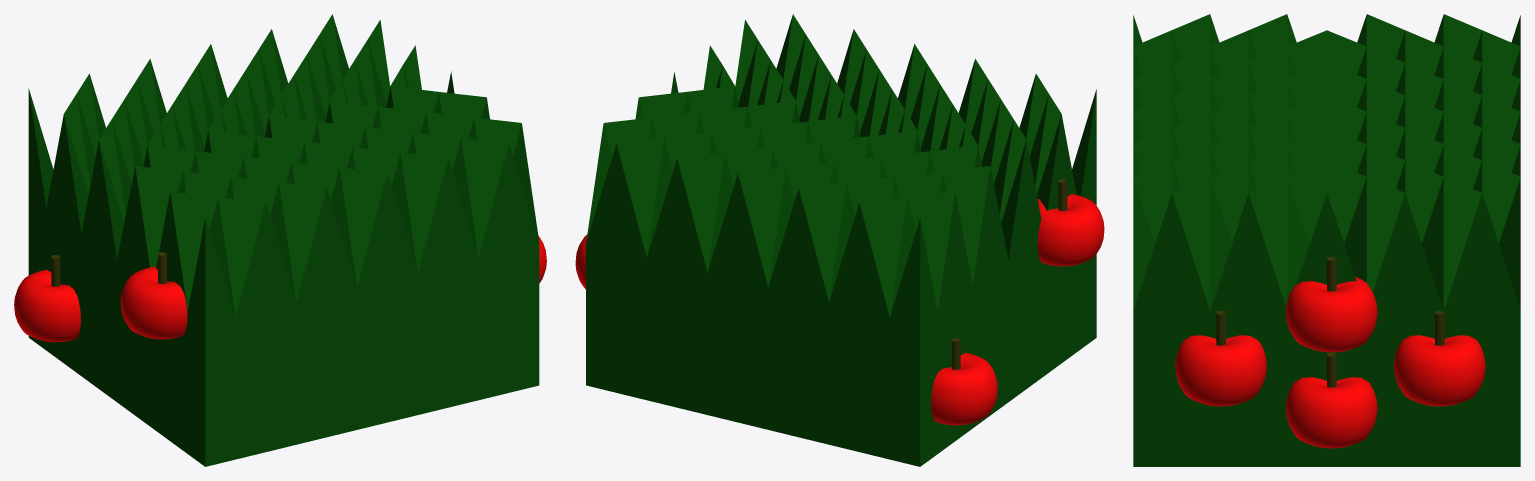
File: Apple's Plantation.fbx
3 renders of one model, left to right at view 1: azimuth 30°, elevation 25°; view 2: azimuth 150°, elevation 25°; view 3: azimuth 270°, elevation 25°, orthographic. The views are drawn at different scales.
Parts seen in each view (by area): view 1: Plant, Apple.004, Apple.005; view 2: Plant, Apple.005, Apple.004; view 3: Plant, Apple.003, Apple, Apple.002, Apple.001.
Boxes of the visible parts, left/top/right/bottom form: Plant: left=28, top=14, right=539, bottom=466; Apple.004: left=14, top=255, right=80, bottom=342; Apple.005: left=120, top=252, right=187, bottom=339; Plant: left=586, top=14, right=1096, bottom=466; Apple.005: left=1037, top=179, right=1104, bottom=266; Apple.004: left=931, top=338, right=997, bottom=425; Plant: left=1133, top=14, right=1520, bottom=466; Apple.003: left=1286, top=256, right=1377, bottom=352; Apple: left=1175, top=310, right=1266, bottom=406; Apple.002: left=1286, top=352, right=1377, bottom=448; Apple.001: left=1394, top=310, right=1485, bottom=406.
Bounding box in the file's own units: 250 × 143 × 183.
